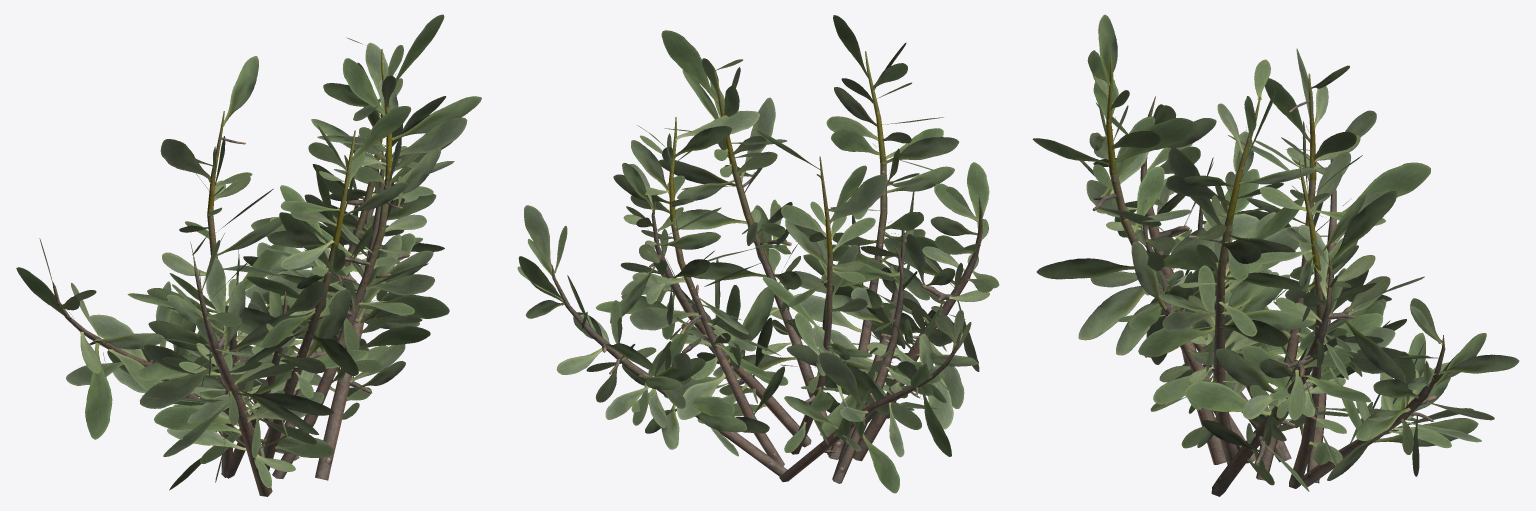
File: understory.glb
3 renders of one model, left to right at view 1: azimuth 30°, elevation 25°; view 2: azimuth 150°, elevation 25°; view 3: azimuth 270°, elevation 25°, orthographic. The views are drawn at different scales.
Visible parts, largest first — view 1: othonna_cerarioides_g; view 2: othonna_cerarioides_g; view 3: othonna_cerarioides_g.
Boxes of the visible parts, x1=… form: othonna_cerarioides_g: x1=16, y1=14, x2=481, y2=496; othonna_cerarioides_g: x1=517, y1=15, x2=999, y2=493; othonna_cerarioides_g: x1=1032, y1=14, x2=1519, y2=496.
Size of the model in its own units: 0.4975 by 0.463 by 0.4355.
2 materials, 2 textured.
